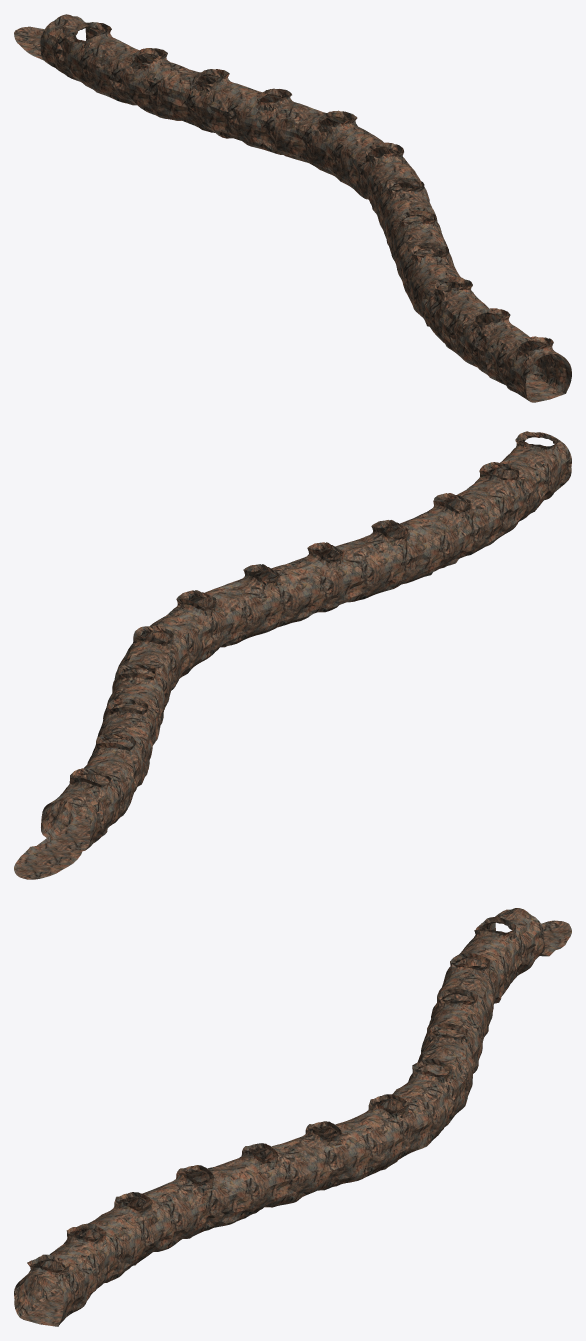
Rendered from tunnel8.obj.
The picture shows the model from 3 angles, top to bottom: view 1: azimuth 30°, elevation 25°; view 2: azimuth 150°, elevation 25°; view 3: azimuth 330°, elevation 25°; orthographic projection. The views are drawn at different scales.
Size of the model in its own units: 20.05 by 6.7 by 121.
1 material, 1 textured.
